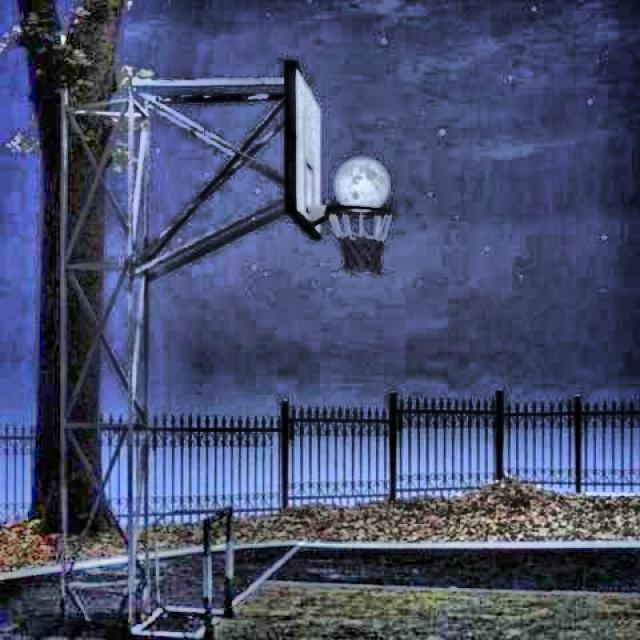rim: (328, 207, 396, 276)
